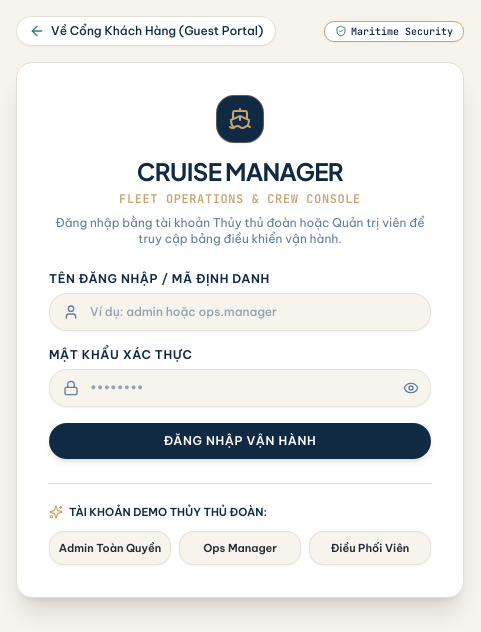
Scenario: LoginPage Component Tests › auto-fills credentials when clicking Admin Toàn Quyền quick-fill button
The image size is (481, 632).
Click the button "Admin Toàn Quyền": (110, 548) left=49, top=530, right=171, bottom=565
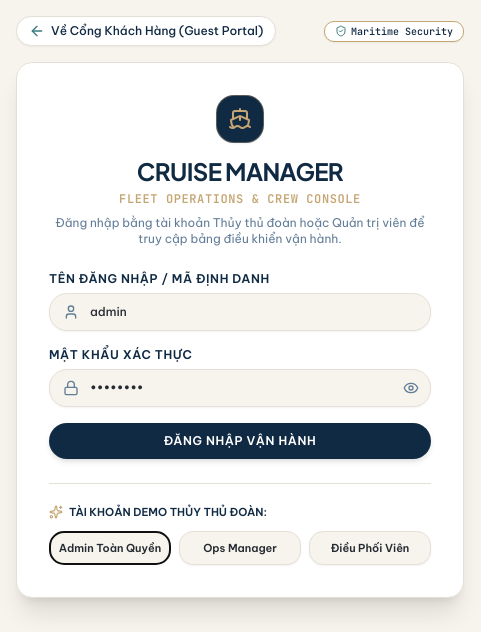
Result: the field labelled "Tên đăng nhập / Mã định danh" holds "admin" at left=49, top=293, right=431, bottom=331
Result: the password field labelled "Mật khẩu xác thực" holds "admin123" at left=49, top=369, right=431, bottom=407
